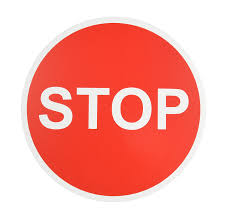stop sign: (22, 17, 202, 197)
